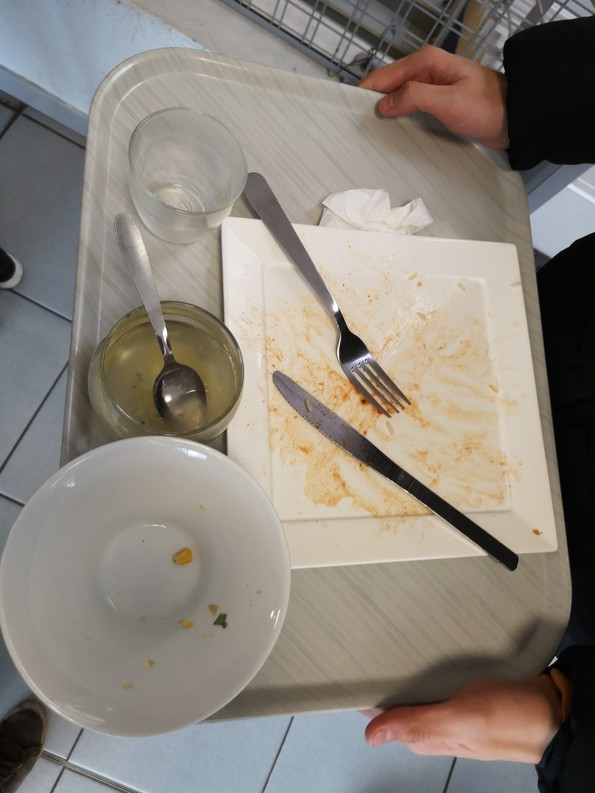cup: (117, 107, 252, 253)
cutlery: (264, 369, 543, 582), (235, 170, 414, 429), (107, 221, 209, 435)
trash: (315, 175, 444, 249)
